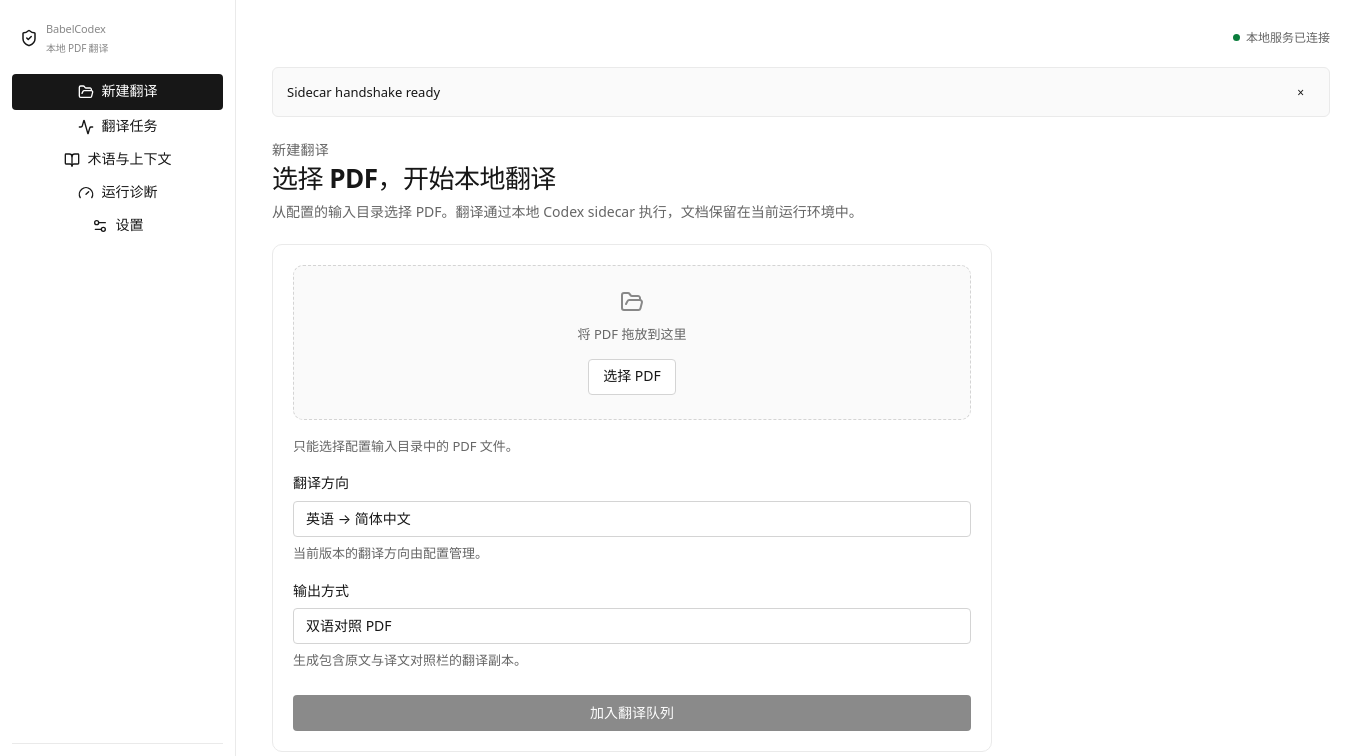
Test: BabelCodex GUI shell › keeps a dismissed notice closed in the shared job store
Check: the text "本地服务已连接" is shown, box top-left (1246, 28), bottom-right (1330, 47)
Check: the text "Sidecar handshake ready" is shown, box top-left (287, 83), bottom-right (440, 101)
Step 1. Click the button named "关闭提示" → (1301,92), box top-left (1286, 78), bottom-right (1315, 106)
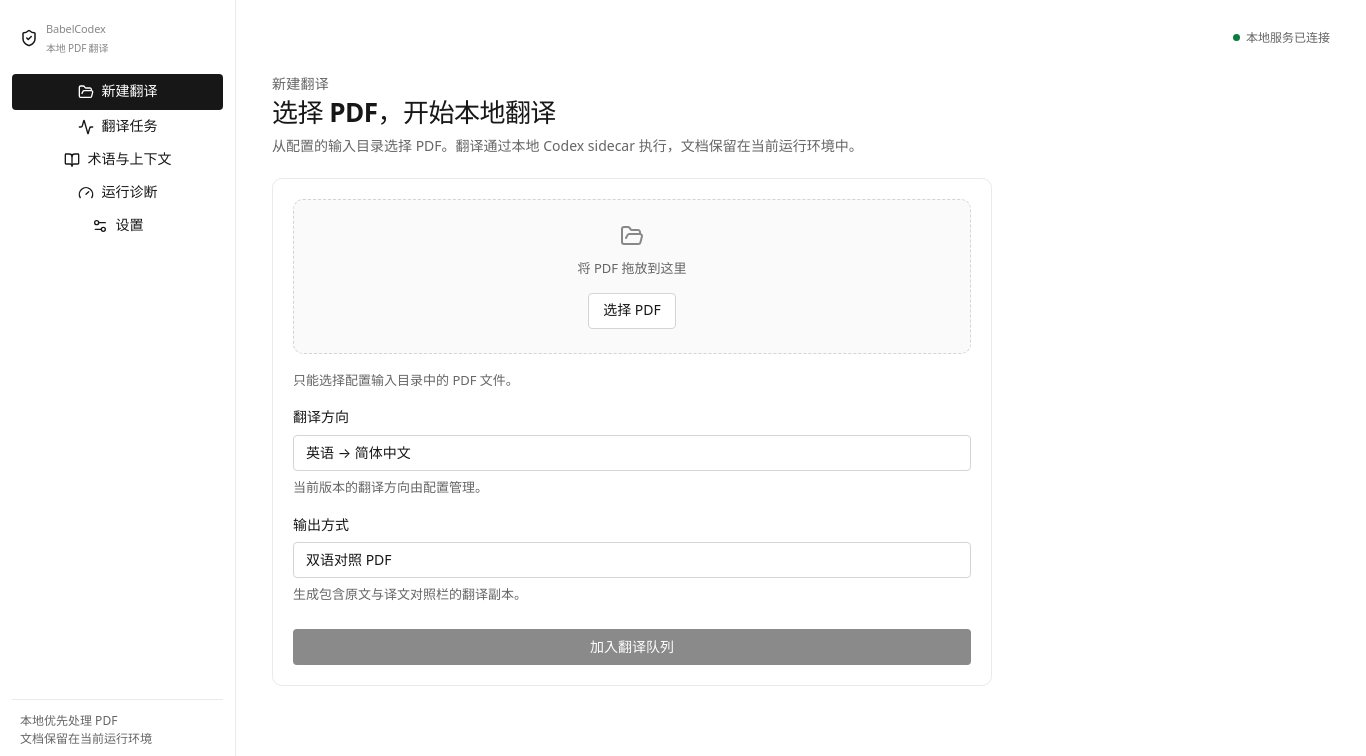
Check: the text "Sidecar handshake ready" is gone
